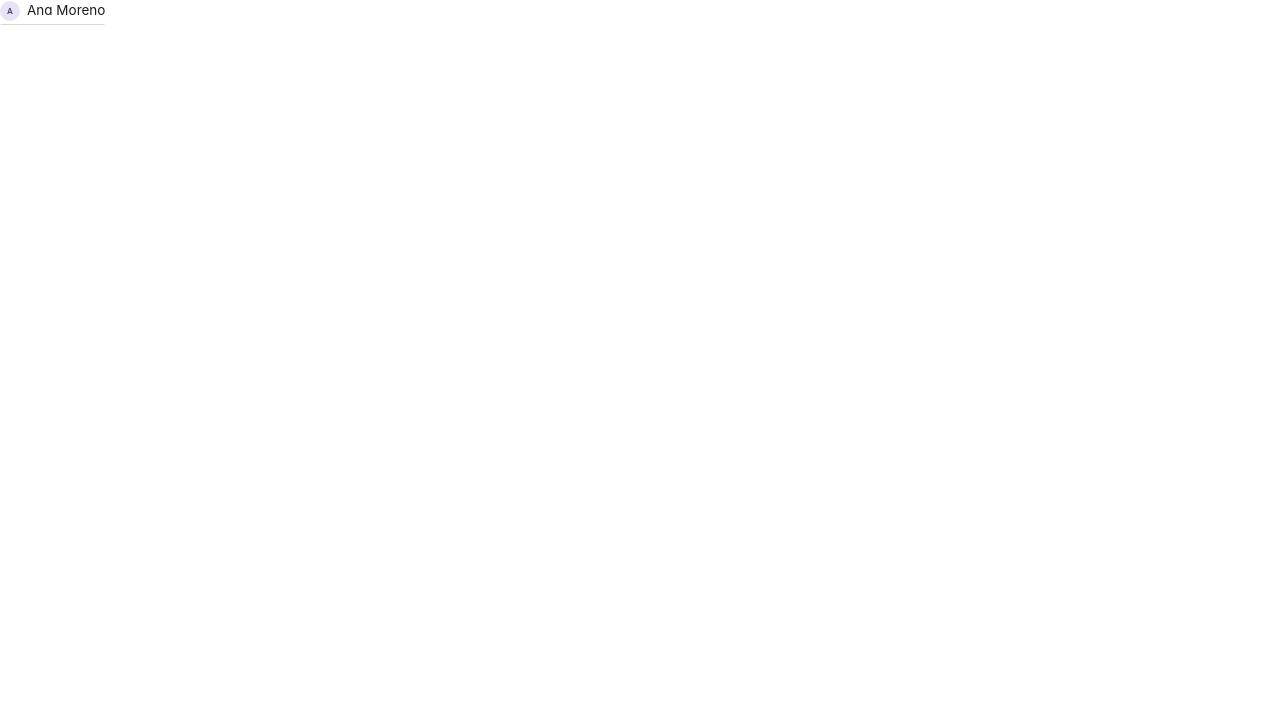
Test: PickerPopover: filtering and the keyboard › typing filters by label, hint and folded accents
Click the button with aria-label "Assignee".
click(53, 11)  # box [0,1,106,21]
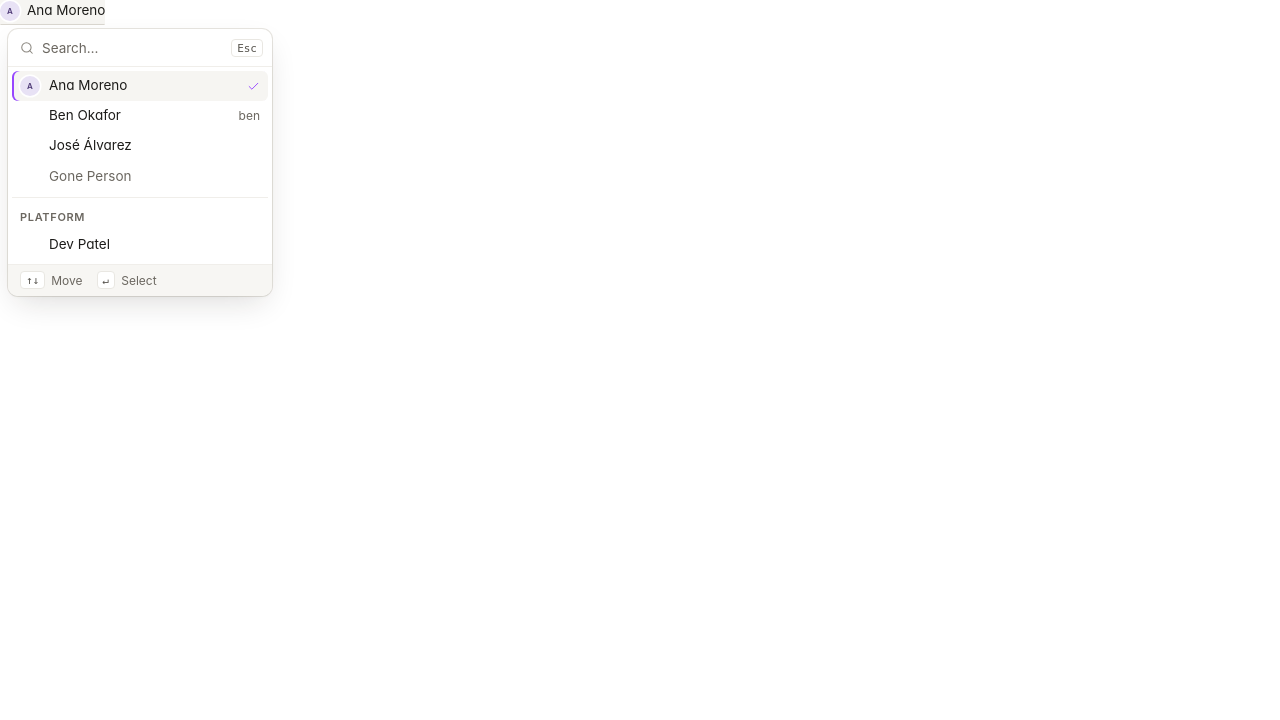
Type "jose" into the dropdown.
click(131, 48); type("jose")  # box [42,29,220,66]
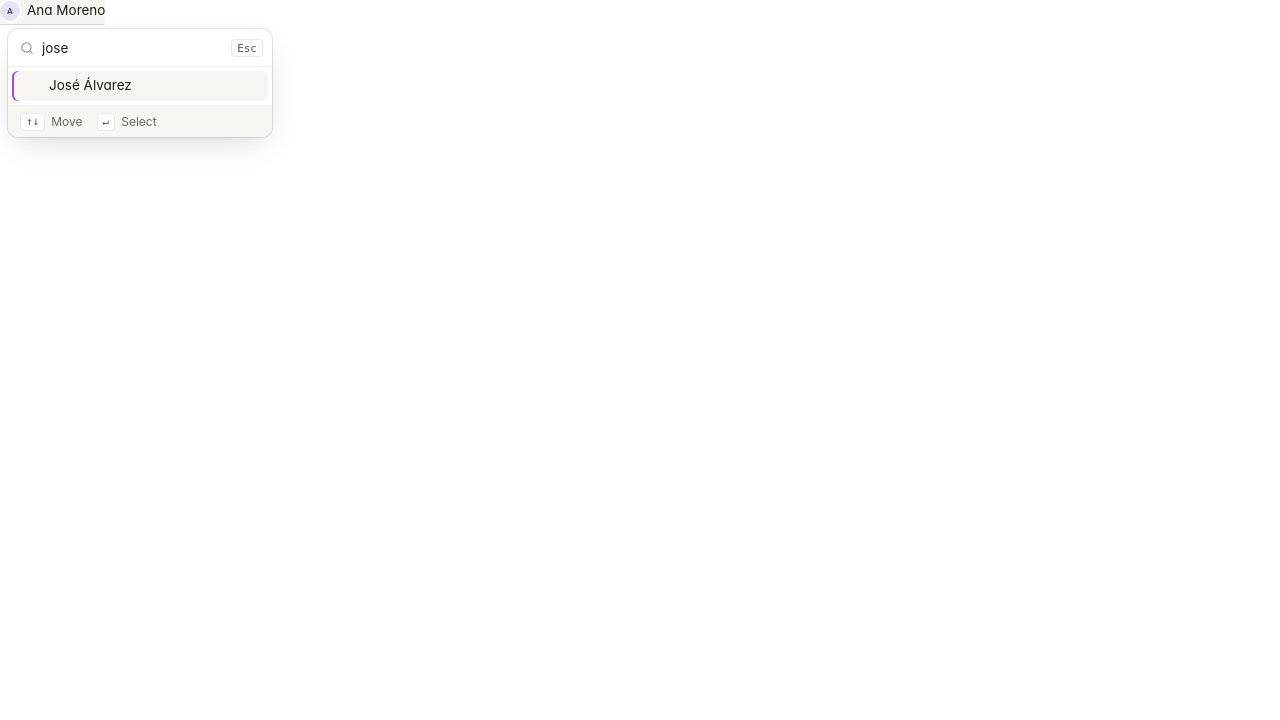
Replace the text in the dropdown with "BEN" at point(131, 48), box [42,29,220,66]
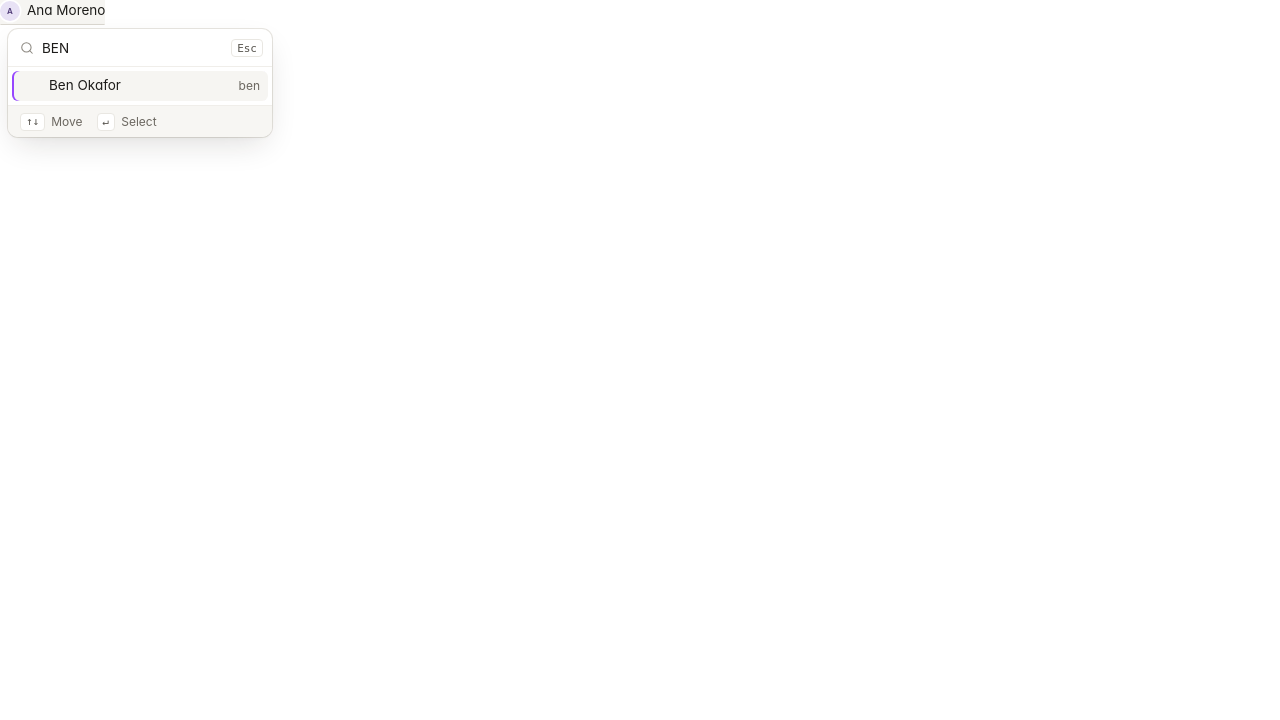
Now the option shows "Ben Okafor", box [12,71,268,101]
